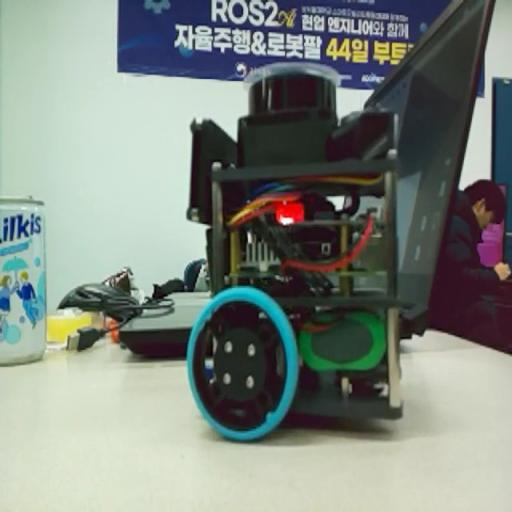pinky_63: (188, 63, 407, 442)
